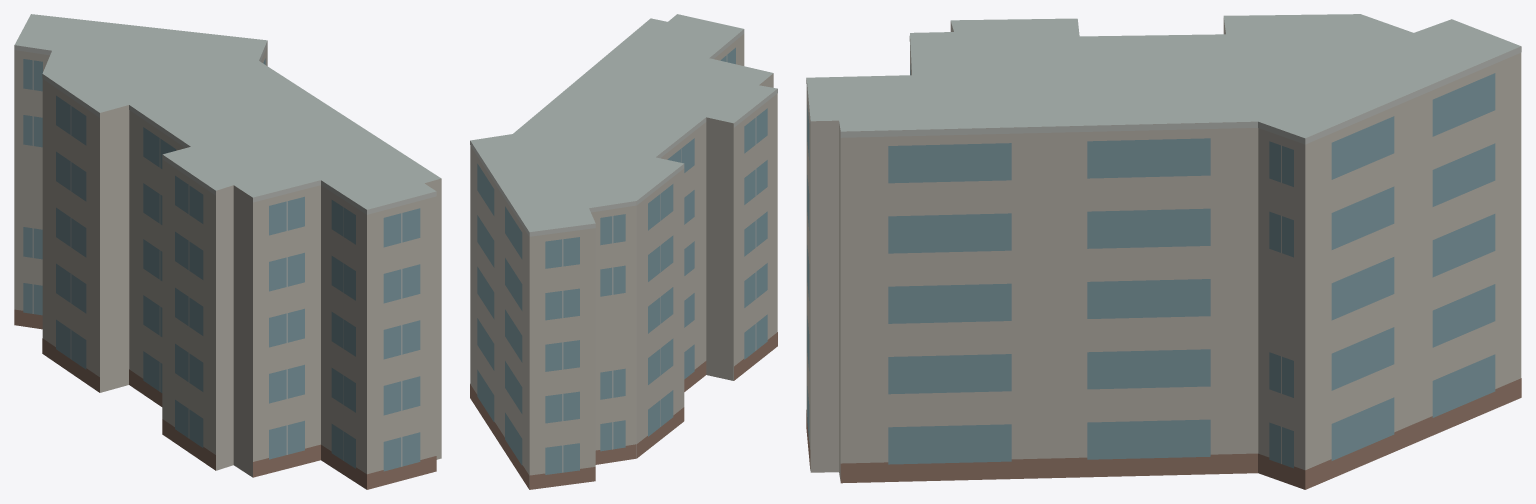
File: survey-upis-32709714.glb
3 views of the same model, side by side, from view 1: azimuth 30°, elevation 25°; view 2: azimuth 150°, elevation 25°; view 3: azimuth 270°, elevation 25° (orthographic). The views are drawn at different scales.
Visible parts, largest first — view 1: survey-upis-32709714.tmp; view 2: survey-upis-32709714.tmp; view 3: survey-upis-32709714.tmp.
Part boxes in pixels (<box>): survey-upis-32709714.tmp: <box>14,14,441,489</box>; survey-upis-32709714.tmp: <box>470,14,777,489</box>; survey-upis-32709714.tmp: <box>806,14,1521,489</box>.
Bounding box in the file's own units: 10.41 × 13.7 × 25.26.
